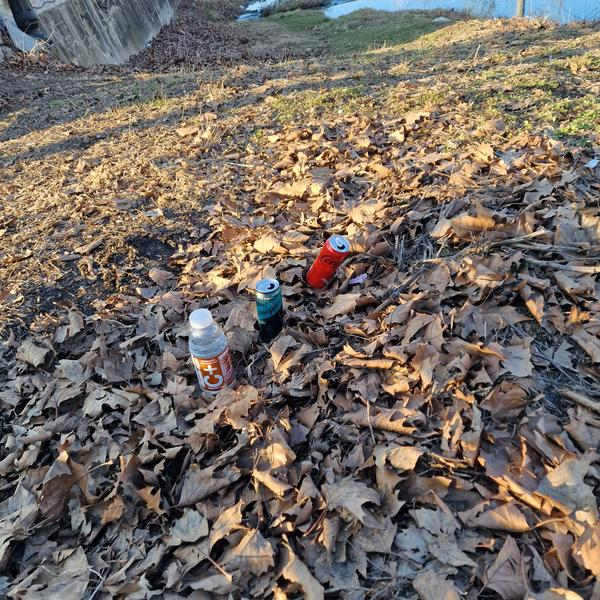can: (302, 230, 355, 292), (252, 276, 287, 342)
plastic_bottle: (180, 303, 240, 400)
